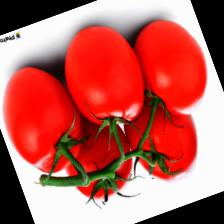tomato: (49, 14, 157, 140), (118, 7, 220, 128), (0, 53, 94, 184), (110, 73, 210, 190), (48, 100, 144, 210)
